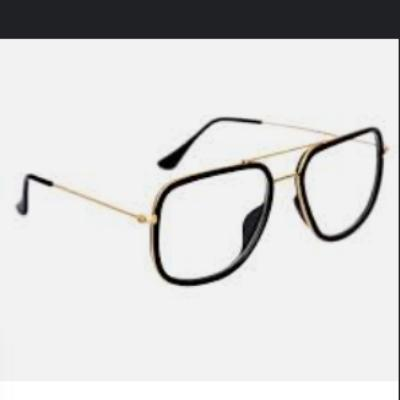glasses: (13, 110, 392, 292)
